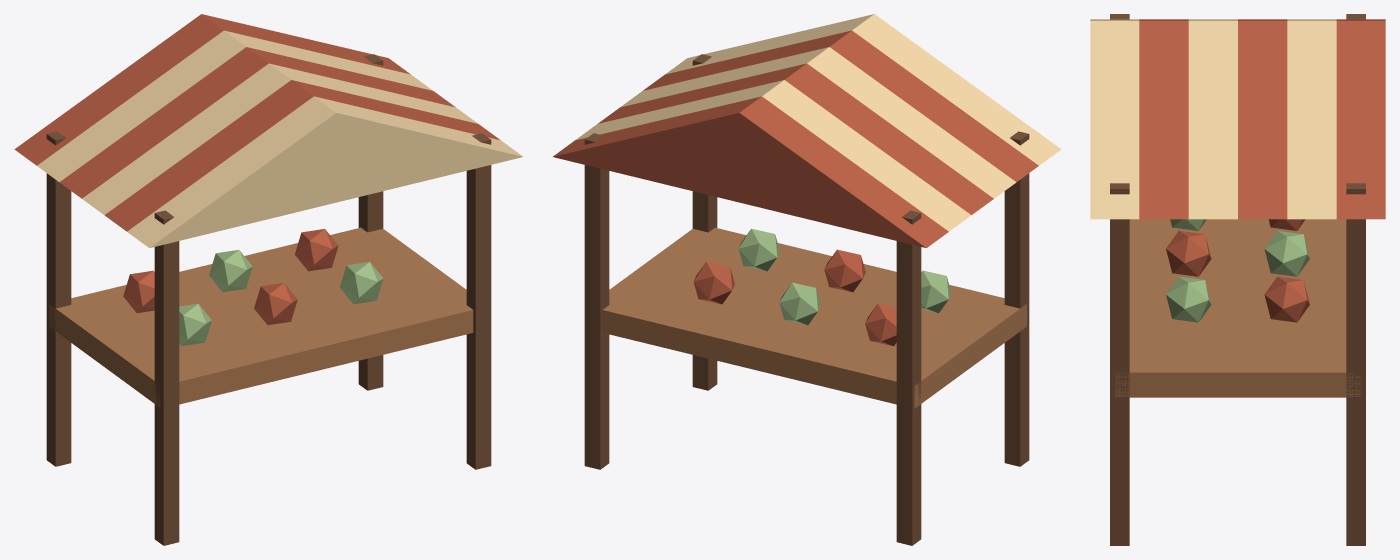
Rendered from stanek.glb.
The picture shows the model from 3 angles, left to right: view 1: azimuth 30°, elevation 25°; view 2: azimuth 150°, elevation 25°; view 3: azimuth 270°, elevation 25°; orthographic projection. The views are drawn at different scales.
Parts seen in each view (by area): view 1: material_f2d5a5, material_ad7950, material_b95e42, material_785239, material_9ebc85; view 2: material_b95e42, material_ad7950, material_f2d5a5, material_785239, material_9ebc85; view 3: material_b95e42, material_ad7950, material_f2d5a5, material_785239, material_9ebc85.
Part boxes in pixels (bbox=[...]): material_f2d5a5: bbox=[37, 30, 522, 247]; material_ad7950: bbox=[49, 227, 473, 408]; material_b95e42: bbox=[14, 14, 500, 325]; material_785239: bbox=[46, 54, 491, 545]; material_9ebc85: bbox=[179, 250, 383, 345]; material_b95e42: bbox=[553, 30, 1038, 346]; material_ad7950: bbox=[602, 227, 1026, 408]; material_f2d5a5: bbox=[575, 14, 1061, 231]; material_785239: bbox=[584, 54, 1029, 545]; material_9ebc85: bbox=[738, 228, 951, 325]; material_b95e42: bbox=[1139, 19, 1385, 322]; material_ad7950: bbox=[1115, 219, 1360, 397]; material_f2d5a5: bbox=[1090, 19, 1336, 219]; material_785239: bbox=[1110, 14, 1365, 545]; material_9ebc85: bbox=[1166, 219, 1309, 322].
Size of the model in its own units: 2.4 by 2.45 by 1.5.
